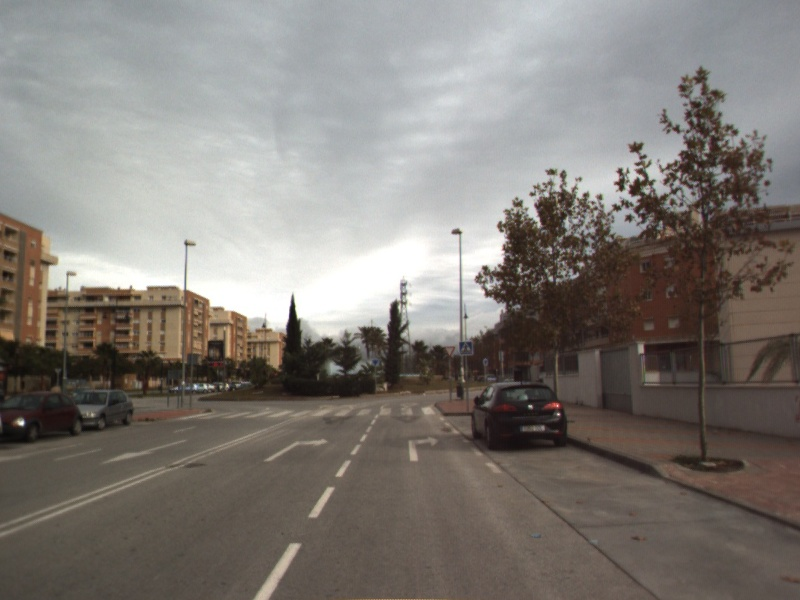RIGHT: (261, 436, 330, 463), (406, 433, 442, 463)
